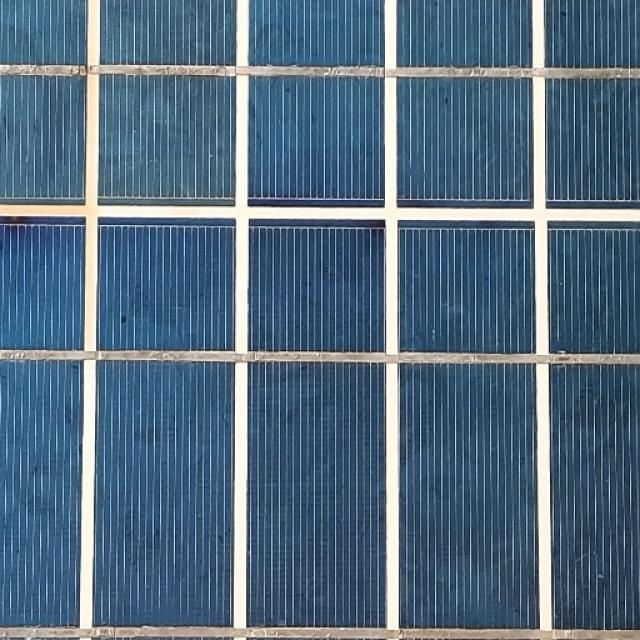Clean: (1, 22, 640, 640)
